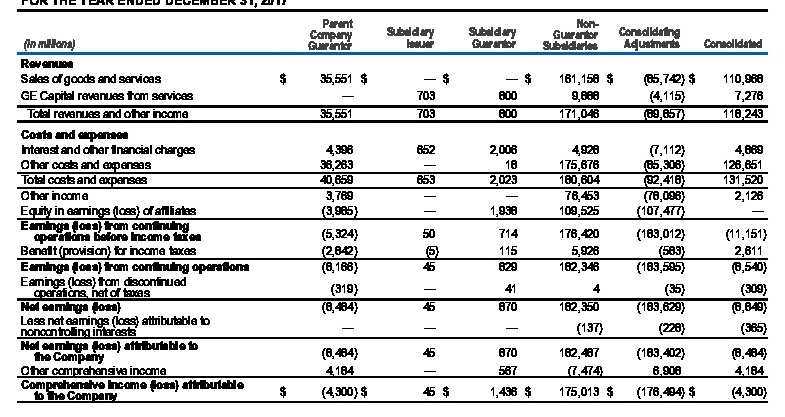table: (0, 0, 785, 417)
